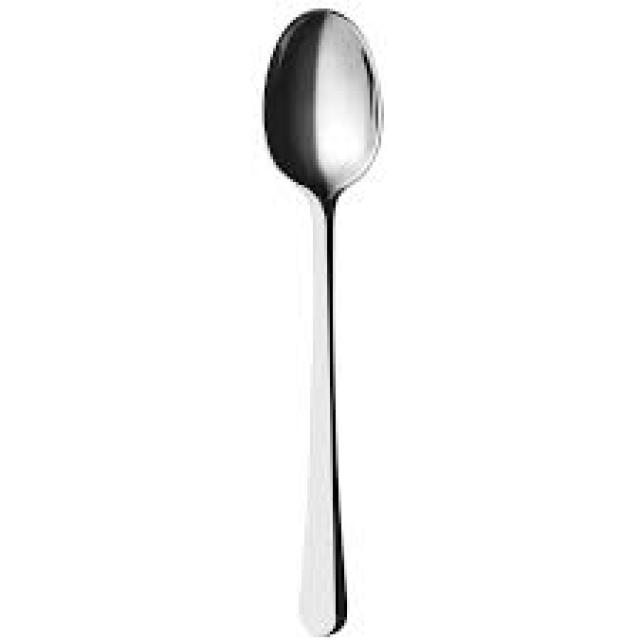Dry Waste: (248, 1, 417, 640)
